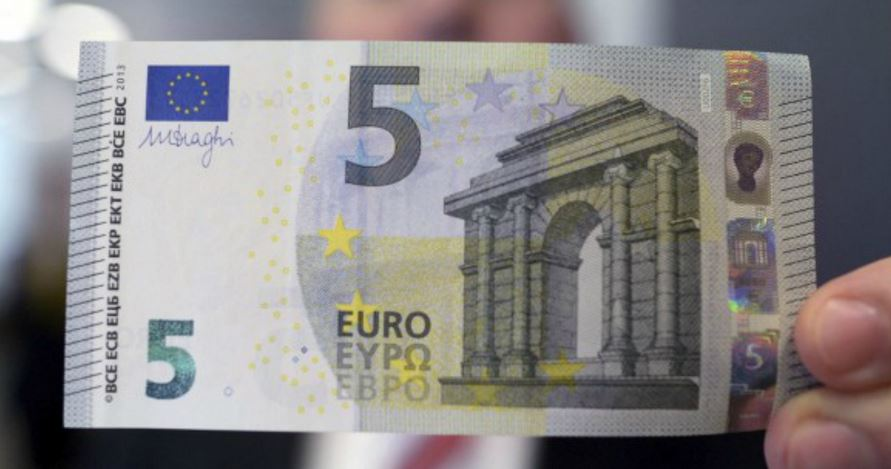billete: (60, 40, 818, 435)
